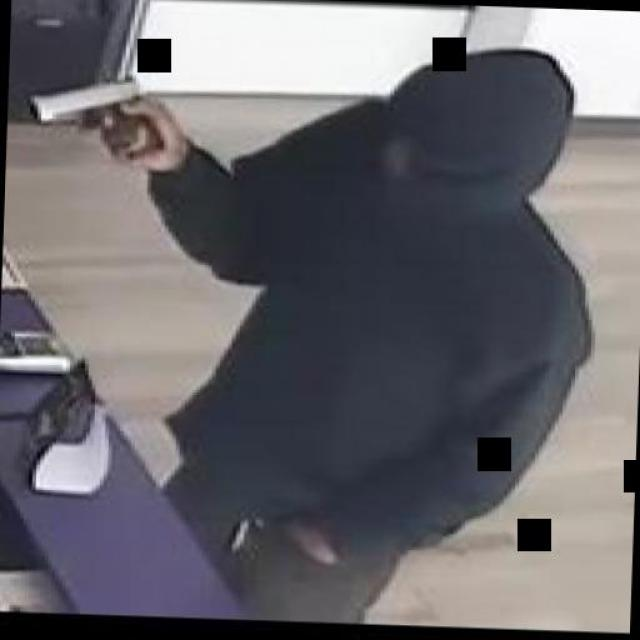gun: (25, 70, 159, 159)
